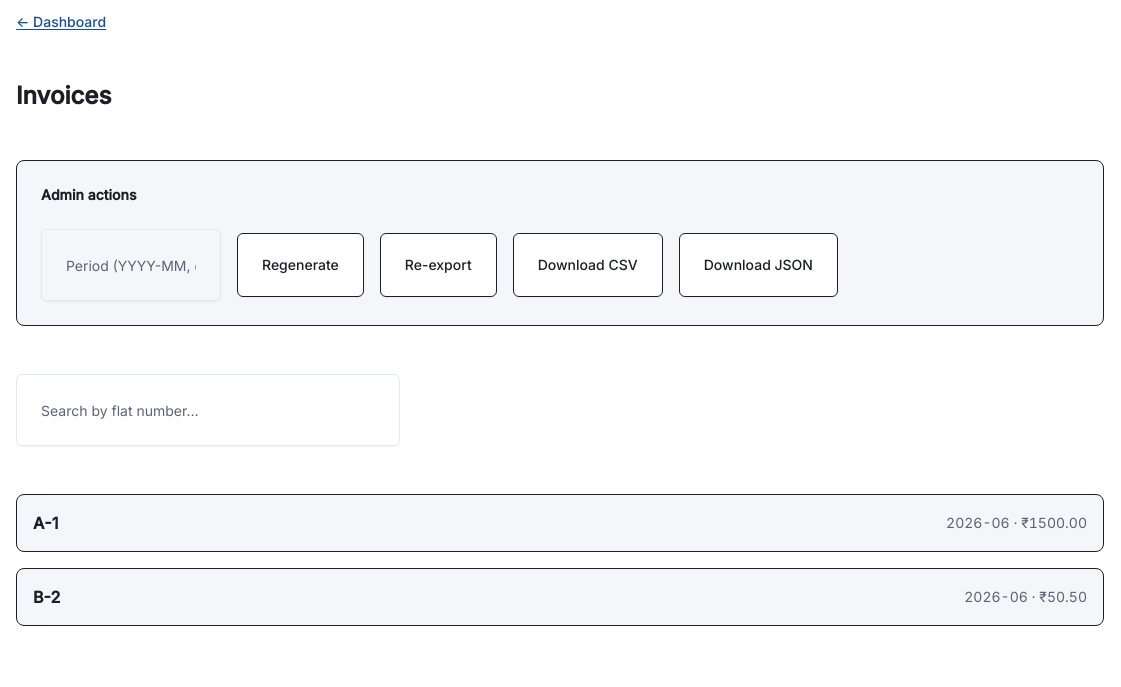
Test: TenantInvoices › admin actions (15.5) › regenerates and shows the resulting summary
The image size is (1121, 687).
Click the button "Regenerate": (300, 265) [237,233,364,297]
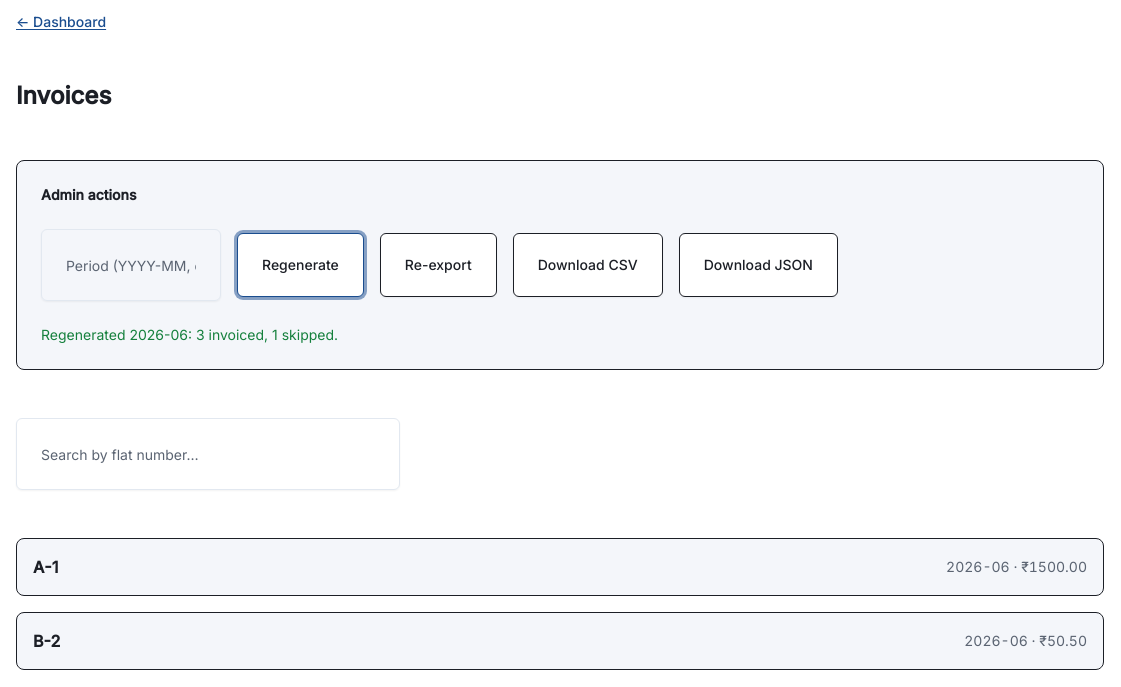
Expected: the text "Regenerated 2026-06: 3 invoiced, 1 skipped." is shown, [41,326,338,343]
